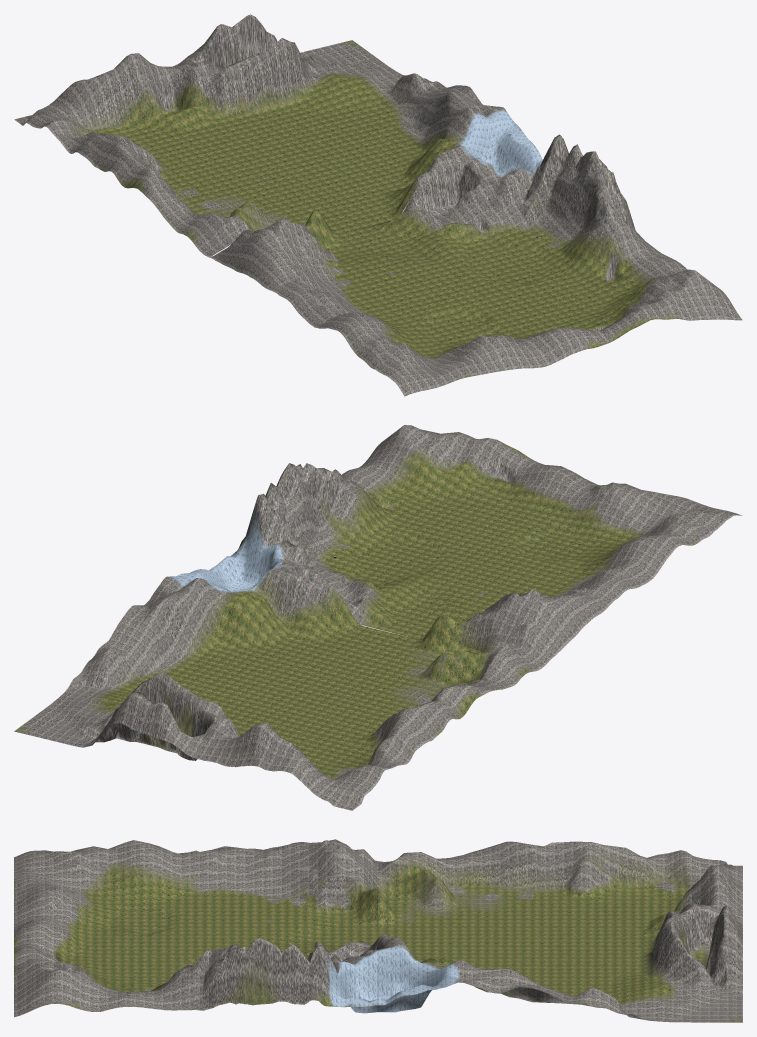
3 renders of one model, top to bottom at view 1: azimuth 30°, elevation 25°; view 2: azimuth 150°, elevation 25°; view 3: azimuth 270°, elevation 25°, orthographic. The views are drawn at different scales.
Visible parts, largest first — view 1: Mesh1; view 2: Mesh1; view 3: Mesh1.
Part boxes in pixels (box(x1,y1,x2,y2)): Mesh1: box(14, 14, 742, 396); Mesh1: box(14, 425, 741, 810); Mesh1: box(14, 839, 742, 1022).
Bounding box in the file's own units: 750 × 175 × 1500.
Materials: 2 (2 with a texture image).
